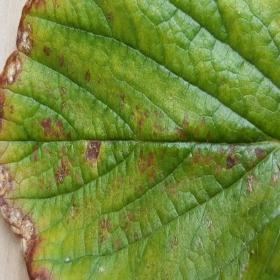Angular Leafspot: (0, 0, 279, 279)
